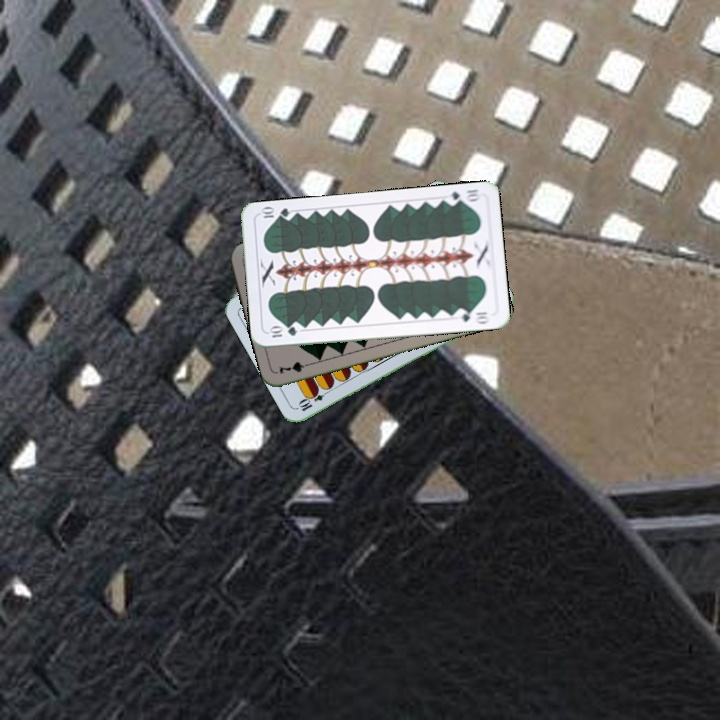E10: (295, 385, 333, 414)
G10: (443, 185, 483, 207), (265, 323, 300, 340)
G7: (275, 357, 315, 377)
